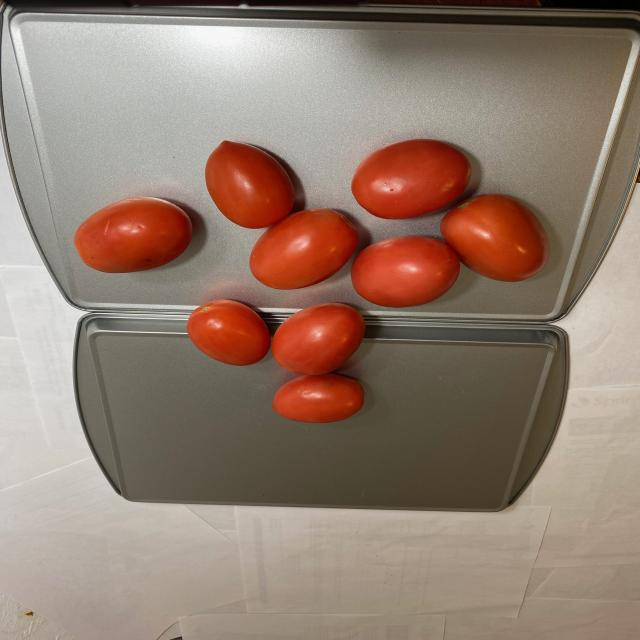tomato: (67, 140, 552, 430), (192, 142, 528, 366)
